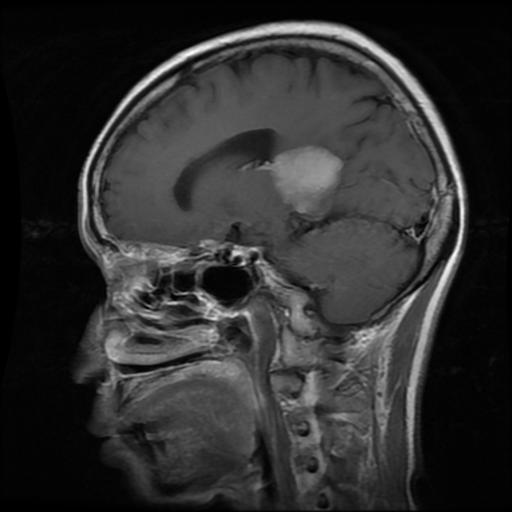Menigiomia_tumour: (270, 144, 342, 219)
